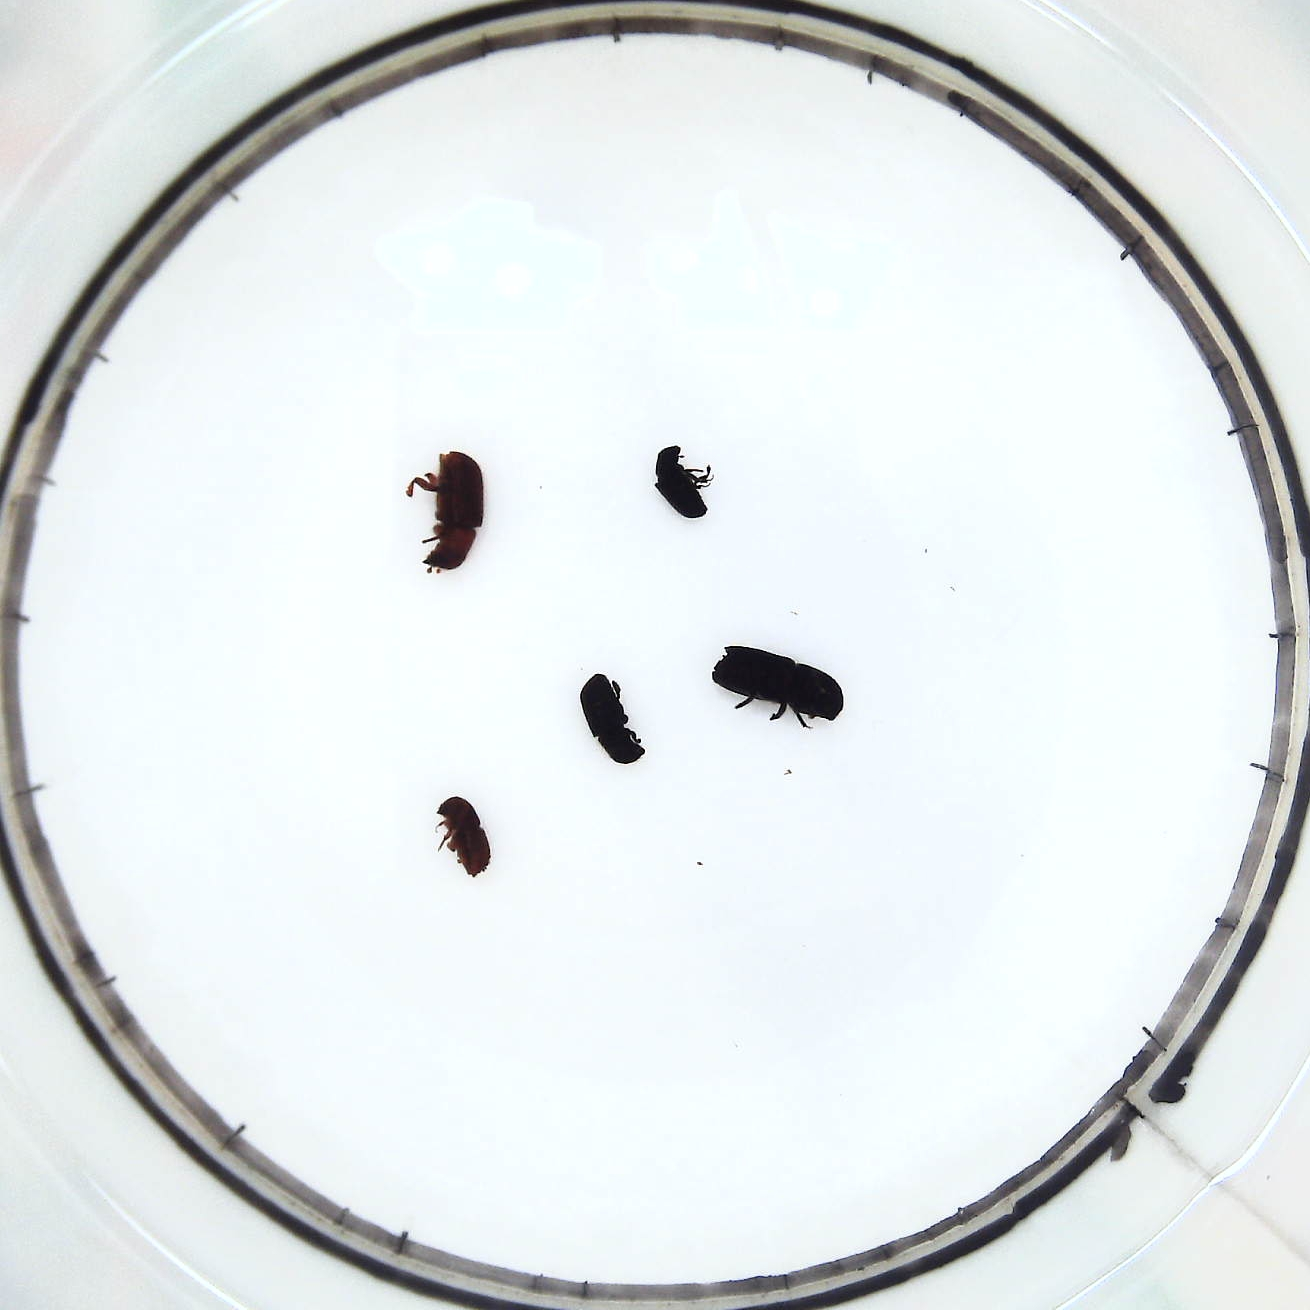Boerner: (707, 639, 848, 737)
Leconte: (404, 445, 489, 572)
armandi: (572, 672, 645, 773)
coleoptera: (653, 440, 719, 523)
linnaeus: (438, 789, 495, 884)
